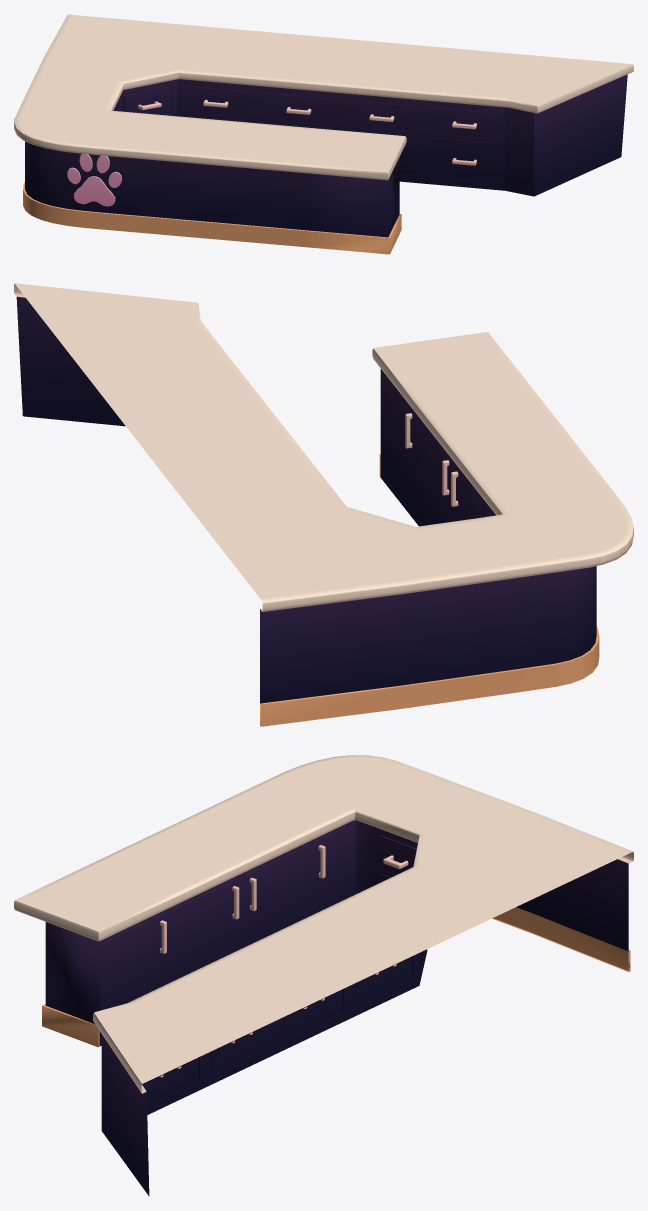
The model's file is Bar.fbx.
The picture shows the model from 3 angles, top to bottom: view 1: azimuth 30°, elevation 25°; view 2: azimuth 150°, elevation 25°; view 3: azimuth 270°, elevation 25°; orthographic projection. The views are drawn at different scales.
Parts seen in each view (by area): view 1: Bar; view 2: Bar; view 3: Bar.
Part boxes in pixels (bbox=[...]): Bar: bbox=[14, 14, 633, 254]; Bar: bbox=[14, 283, 633, 726]; Bar: bbox=[14, 755, 633, 1196].
Bounding box in the file's own units: 775 × 130 × 616.
